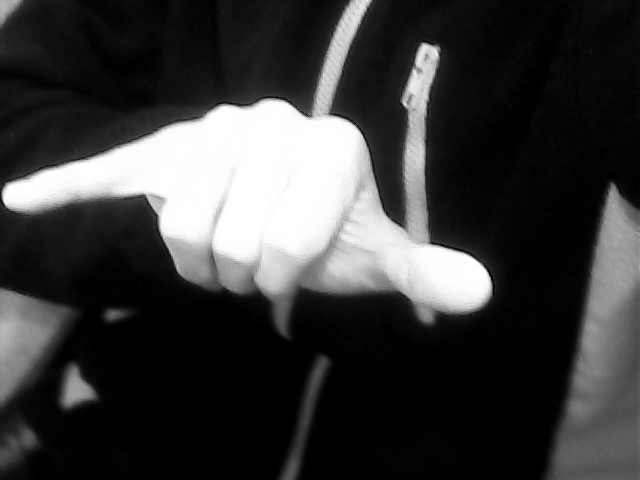aloha: (2, 98, 495, 319)
